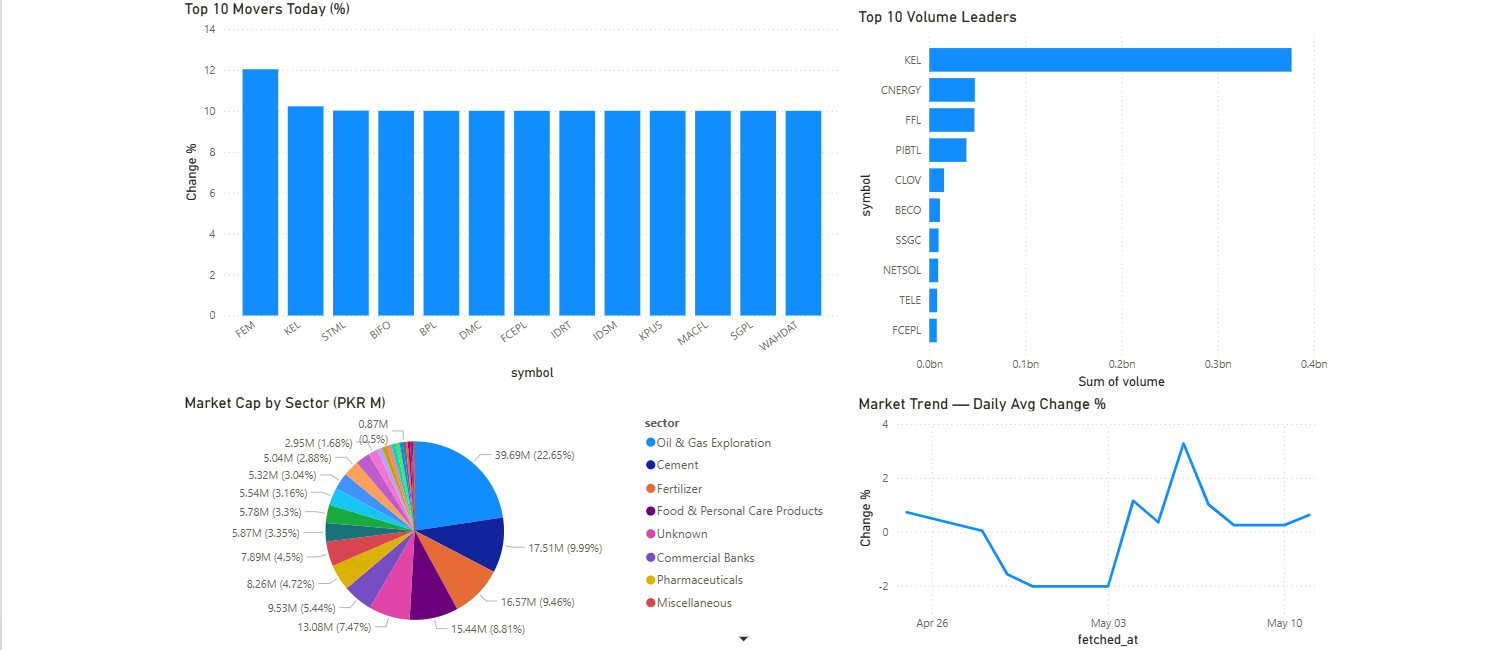

What the dashboard file says about the page in this screenshot:
{"tool":"powerbi","page":{"name":"Page 1","canvas":[1280,720],"ordinal":0},"visuals":[{"type":"clusteredColumnChart","title":"Top 10 Movers Today (%)","fields":{"Category":["public mart_top_movers.symbol"],"Y":["Avg(public mart_top_movers.change_pct)"]},"box":[9.9,0,732.6,425],"z":0},{"type":"pieChart","title":"Market Cap by Sector (PKR M)","fields":{"Category":["public mart_sector_summary.sector"],"Y":["Sum(public mart_sector_summary.total_market_cap_m)"]},"box":[9.9,434.9,732.6,284.4],"z":1000},{"type":"clusteredBarChart","title":"Top 10 Volume Leaders","fields":{"Category":["public mart_top_movers.symbol"],"Y":["Sum(public mart_top_movers.volume)"]},"box":[752.9,8.8,527.1,425.5],"z":2000},{"type":"lineChart","title":"Market Trend — Daily Avg Change %","fields":{"Category":["public mart_top_movers.fetched_at"],"Y":["Avg(public mart_top_movers.change_pct)"]},"box":[753,435,527,284],"z":3000}]}

Visuals, with their boxes on the page's 1280x720 design canvas (x1, y1, x2, y2). These are canvas units, not pixel positions in the 1499x650 screenshot, which may show the page scaled, cropped or inside an application window:
"Top 10 Movers Today (%)" clusteredColumnChart: detection(10, 0, 742, 425)
"Market Cap by Sector (PKR M)" pieChart: detection(10, 435, 742, 719)
"Top 10 Volume Leaders" clusteredBarChart: detection(753, 9, 1280, 434)
"Market Trend — Daily Avg Change %" lineChart: detection(753, 435, 1280, 719)
